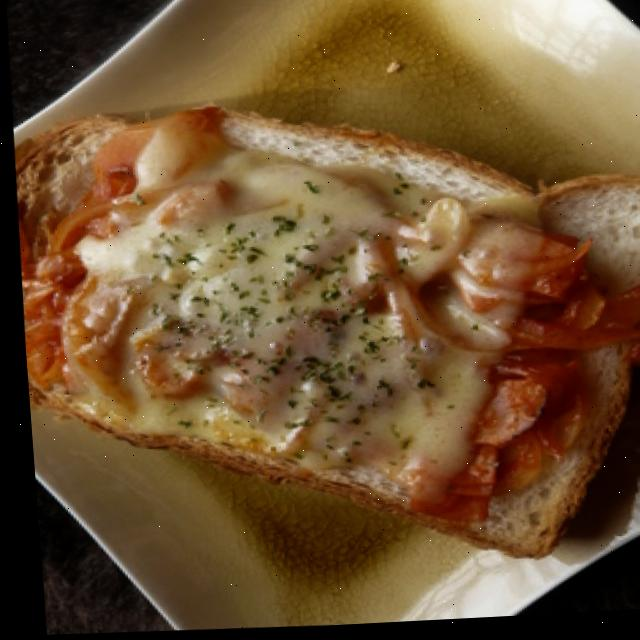面包点心: (1, 0, 640, 630)
